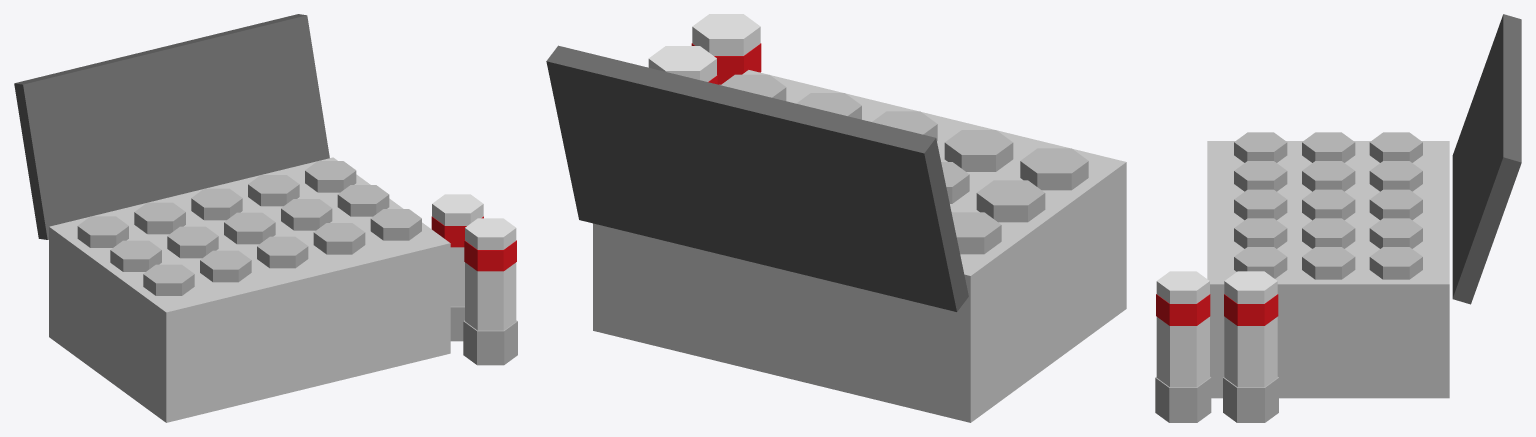
Rendered from ce_ammo_shotgun_beanbag_c.obj.
The picture shows the model from 3 angles, left to right: view 1: azimuth 30°, elevation 25°; view 2: azimuth 150°, elevation 25°; view 3: azimuth 270°, elevation 25°; orthographic projection. The views are drawn at different scales.
Parts seen in each view (by area): view 1: ce_ammo_shotgun_beanbag_c_0, ce_ammo_shotgun_beanbag_c_16, ce_ammo_shotgun_beanbag_c_18, ce_ammo_shotgun_beanbag_c_21, ce_ammo_shotgun_beanbag_c_17, ce_ammo_shotgun_beanbag_c_7, ce_ammo_shotgun_beanbag_c_4, ce_ammo_shotgun_beanbag_c_10, ce_ammo_shotgun_beanbag_c_1, ce_ammo_shotgun_beanbag_c_6, ce_ammo_shotgun_beanbag_c_8, ce_ammo_shotgun_beanbag_c_13 (+11 smaller); view 2: ce_ammo_shotgun_beanbag_c_0, ce_ammo_shotgun_beanbag_c_16, ce_ammo_shotgun_beanbag_c_2, ce_ammo_shotgun_beanbag_c_1, ce_ammo_shotgun_beanbag_c_4, ce_ammo_shotgun_beanbag_c_18, ce_ammo_shotgun_beanbag_c_21, ce_ammo_shotgun_beanbag_c_3, ce_ammo_shotgun_beanbag_c_7, ce_ammo_shotgun_beanbag_c_13, ce_ammo_shotgun_beanbag_c_10, ce_ammo_shotgun_beanbag_c_19 (+1 smaller); view 3: ce_ammo_shotgun_beanbag_c_0, ce_ammo_shotgun_beanbag_c_16, ce_ammo_shotgun_beanbag_c_18, ce_ammo_shotgun_beanbag_c_21, ce_ammo_shotgun_beanbag_c_17, ce_ammo_shotgun_beanbag_c_20, ce_ammo_shotgun_beanbag_c_14, ce_ammo_shotgun_beanbag_c_15, ce_ammo_shotgun_beanbag_c_7, ce_ammo_shotgun_beanbag_c_8, ce_ammo_shotgun_beanbag_c_9, ce_ammo_shotgun_beanbag_c_5 (+11 smaller).
Part boxes in pixels (left/top/right/bottom): ce_ammo_shotgun_beanbag_c_0: left=49, top=157, right=450, bottom=422; ce_ammo_shotgun_beanbag_c_16: left=14, top=14, right=329, bottom=239; ce_ammo_shotgun_beanbag_c_18: left=465, top=218, right=516, bottom=330; ce_ammo_shotgun_beanbag_c_21: left=432, top=194, right=483, bottom=306; ce_ammo_shotgun_beanbag_c_17: left=463, top=320, right=517, bottom=365; ce_ammo_shotgun_beanbag_c_7: left=257, top=236, right=308, bottom=268; ce_ammo_shotgun_beanbag_c_4: left=200, top=250, right=251, bottom=282; ce_ammo_shotgun_beanbag_c_10: left=313, top=223, right=365, bottom=254; ce_ammo_shotgun_beanbag_c_1: left=143, top=264, right=194, bottom=295; ce_ammo_shotgun_beanbag_c_6: left=134, top=202, right=185, bottom=234; ce_ammo_shotgun_beanbag_c_8: left=224, top=212, right=275, bottom=244; ce_ammo_shotgun_beanbag_c_13: left=370, top=209, right=421, bottom=240; ce_ammo_shotgun_beanbag_c_0: left=593, top=70, right=1126, bottom=422; ce_ammo_shotgun_beanbag_c_16: left=546, top=45, right=968, bottom=311; ce_ammo_shotgun_beanbag_c_2: left=976, top=180, right=1045, bottom=222; ce_ammo_shotgun_beanbag_c_1: left=1020, top=148, right=1088, bottom=190; ce_ammo_shotgun_beanbag_c_4: left=944, top=130, right=1013, bottom=171; ce_ammo_shotgun_beanbag_c_18: left=692, top=14, right=760, bottom=84; ce_ammo_shotgun_beanbag_c_21: left=648, top=46, right=716, bottom=81; ce_ammo_shotgun_beanbag_c_3: left=951, top=212, right=1001, bottom=254; ce_ammo_shotgun_beanbag_c_7: left=872, top=111, right=937, bottom=140; ce_ammo_shotgun_beanbag_c_13: left=721, top=74, right=786, bottom=100; ce_ammo_shotgun_beanbag_c_10: left=796, top=93, right=861, bottom=119; ce_ammo_shotgun_beanbag_c_19: left=691, top=43, right=761, bottom=84; ce_ammo_shotgun_beanbag_c_0: left=1207, top=141, right=1449, bottom=398; ce_ammo_shotgun_beanbag_c_16: left=1452, top=14, right=1521, bottom=304; ce_ammo_shotgun_beanbag_c_18: left=1156, top=271, right=1209, bottom=387; ce_ammo_shotgun_beanbag_c_21: left=1224, top=271, right=1277, bottom=387; ce_ammo_shotgun_beanbag_c_17: left=1155, top=377, right=1211, bottom=422; ce_ammo_shotgun_beanbag_c_20: left=1223, top=377, right=1278, bottom=422; ce_ammo_shotgun_beanbag_c_14: left=1302, top=247, right=1355, bottom=279; ce_ammo_shotgun_beanbag_c_15: left=1369, top=247, right=1422, bottom=279; ce_ammo_shotgun_beanbag_c_7: left=1234, top=189, right=1287, bottom=220; ce_ammo_shotgun_beanbag_c_8: left=1302, top=189, right=1355, bottom=220; ce_ammo_shotgun_beanbag_c_9: left=1369, top=189, right=1422, bottom=220; ce_ammo_shotgun_beanbag_c_5: left=1302, top=161, right=1355, bottom=191.
Bounding box in the file's own units: 0.8202 × 0.5495 × 0.7571.
